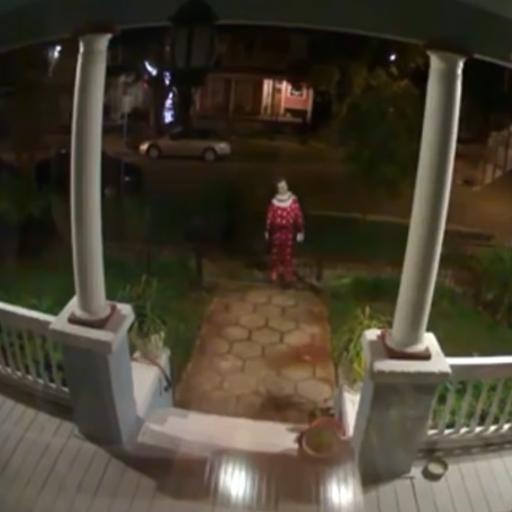Humans: (250, 145, 316, 304)
